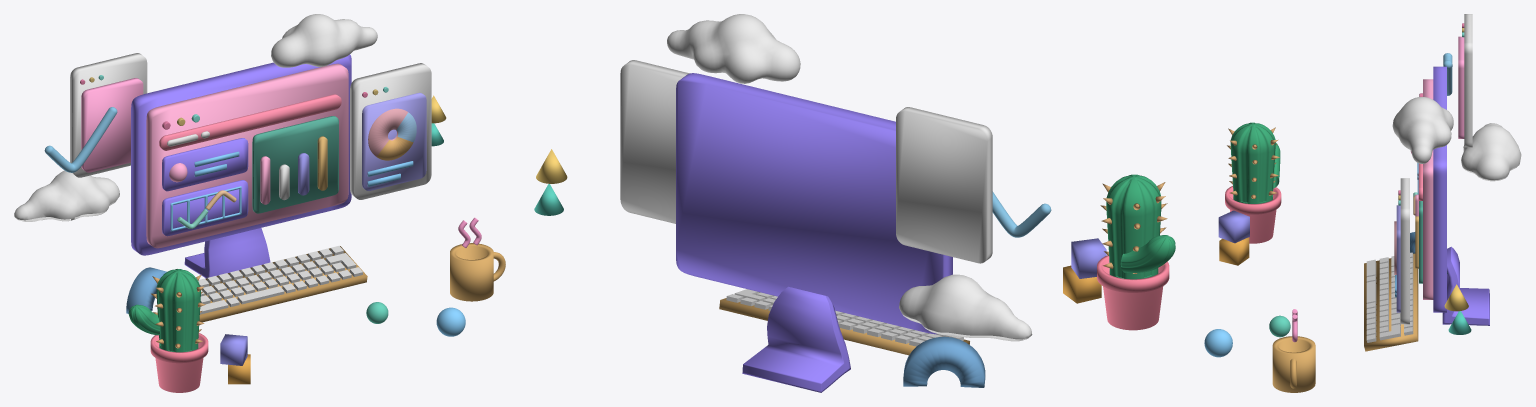
3 views of the same model, side by side, from view 1: azimuth 30°, elevation 25°; view 2: azimuth 150°, elevation 25°; view 3: azimuth 270°, elevation 25° (orthographic). The views are drawn at different scales.
Parts seen in each view (by area): view 1: Plane.001, Plane.002, Plane.005, Plane.016, Plane.011, Plane.009, Retopo_Mball.001, Retopo_Mball.003, Plane.008, Sphere.002, Plane.010, Plane (+16 smaller); view 2: Plane.002, Plane.010, Plane.011, Plane.006, Retopo_Mball.001, Retopo_Mball.003, Sphere.002, Circle.002, Circle.001, Plane.016, Plane.012, Sphere.004 (+6 smaller); view 3: Sphere.002, Plane.002, Retopo_Mball.001, Plane.016, Retopo_Mball.003, Cylinder, Plane.001, Plane.012, Plane.006, Circle.002, Plane.011, Plane.010 (+12 smaller).
Part boxes in pixels (left/top/right/bottom): Plane.001: left=146, top=63, right=348, bottom=248; Plane.002: left=131, top=54, right=351, bottom=255; Plane.005: left=252, top=116, right=338, bottom=213; Plane.016: left=198, top=245, right=363, bottom=314; Plane.011: left=350, top=63, right=431, bottom=199; Plane.009: left=81, top=78, right=143, bottom=172; Retopo_Mball.001: left=271, top=14, right=377, bottom=67; Retopo_Mball.003: left=14, top=170, right=119, bottom=221; Plane.008: left=362, top=92, right=426, bottom=190; Sphere.002: left=156, top=269, right=200, bottom=352; Plane.010: left=70, top=53, right=147, bottom=177; Plane: left=159, top=94, right=341, bottom=150; Plane.002: left=676, top=73, right=952, bottom=334; Plane.010: left=896, top=107, right=992, bottom=263; Plane.011: left=620, top=60, right=689, bottom=223; Plane.006: left=742, top=286, right=850, bottom=392; Retopo_Mball.001: left=667, top=14, right=800, bottom=83; Retopo_Mball.003: left=899, top=274, right=1032, bottom=341; Sphere.002: left=1106, top=174, right=1161, bottom=279; Circle.002: left=1097, top=255, right=1169, bottom=330; Circle.001: left=903, top=336, right=985, bottom=387; Plane.016: left=726, top=289, right=963, bottom=346; Plane.012: left=719, top=298, right=969, bottom=355; Sphere.004: left=1121, top=235, right=1175, bottom=272; Sphere.002: left=1230, top=122, right=1275, bottom=203; Plane.002: left=1433, top=66, right=1446, bottom=312; Retopo_Mball.001: left=1392, top=97, right=1453, bottom=163; Plane.016: left=1366, top=252, right=1413, bottom=342; Retopo_Mball.003: left=1461, top=123, right=1521, bottom=181; Cylinder: left=1272, top=336, right=1315, bottom=392; Plane.001: left=1423, top=79, right=1433, bottom=299; Plane.012: left=1364, top=253, right=1418, bottom=351; Plane.006: left=1442, top=246, right=1489, bottom=325; Circle.002: left=1225, top=186, right=1281, bottom=243; Plane.011: left=1400, top=178, right=1409, bottom=324; Plane.010: left=1464, top=14, right=1472, bottom=147.
Size of the model in its own units: 4 by 2.33 by 2.74.
